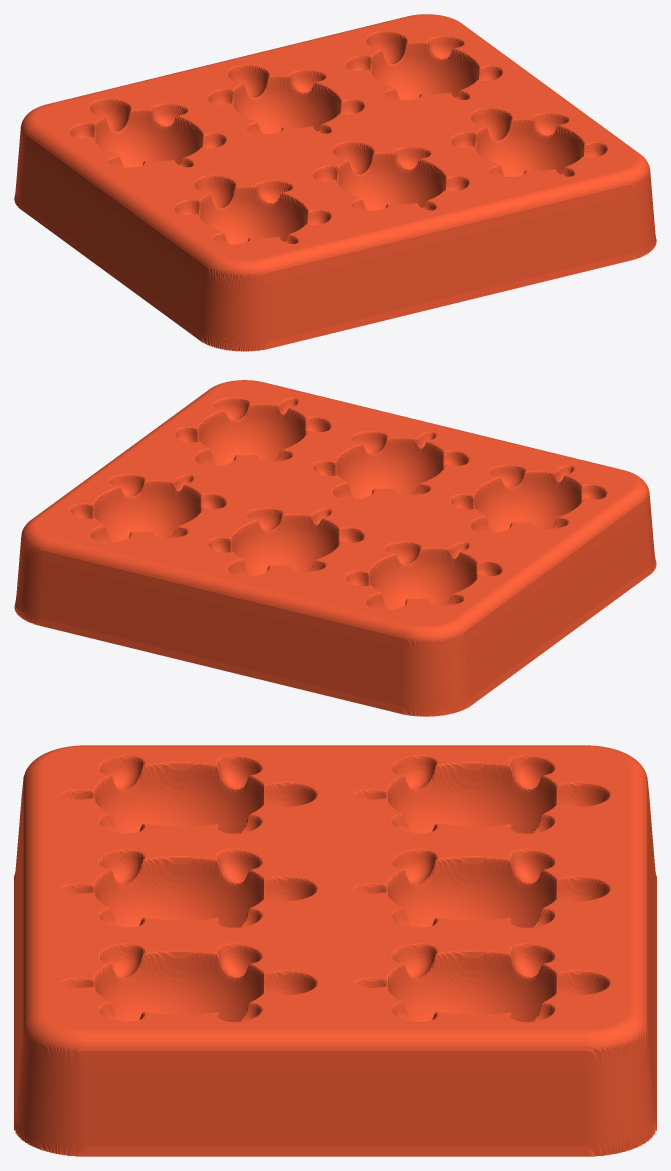
File: mold.glb
The picture shows the model from 3 angles, top to bottom: view 1: azimuth 30°, elevation 25°; view 2: azimuth 150°, elevation 25°; view 3: azimuth 270°, elevation 25°; orthographic projection. The views are drawn at different scales.
Visible parts, largest first — view 1: geometry_0; view 2: geometry_0; view 3: geometry_0.
Part boxes in pixels (x1,y1,x2,y2): geometry_0: (14, 14, 656, 351); geometry_0: (14, 380, 656, 716); geometry_0: (14, 745, 656, 1156).
Bounding box in the file's own units: 0.0912 × 0.0159 × 0.0808.
